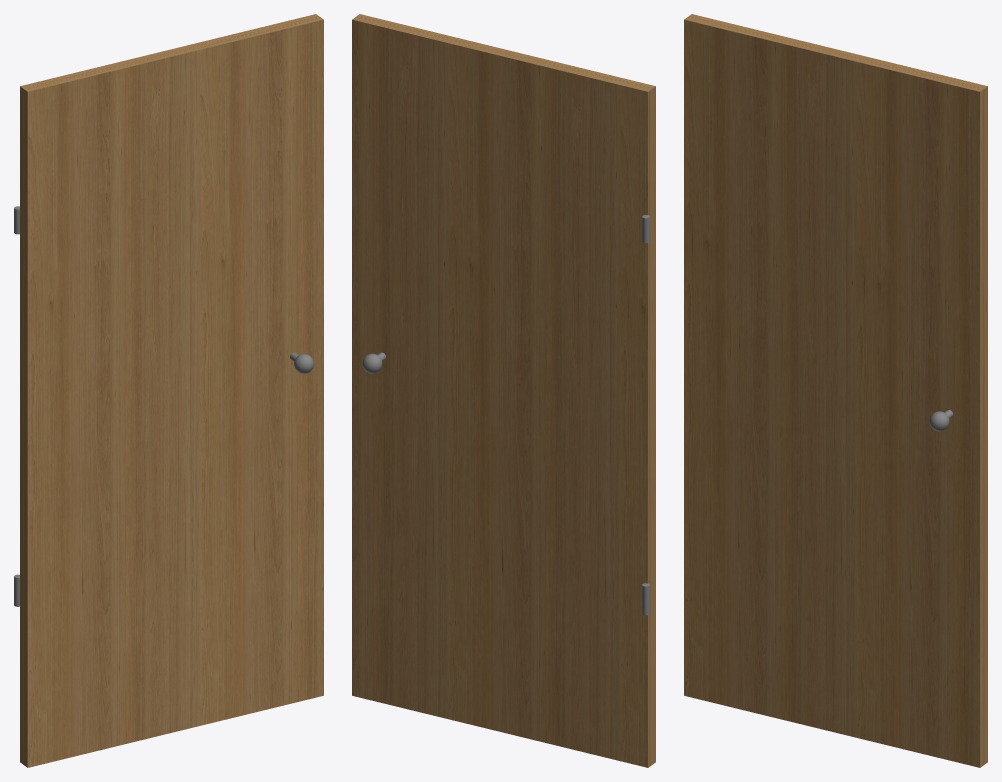
File: door6.dae
3 views of the same model, side by side, from view 1: azimuth 30°, elevation 25°; view 2: azimuth 150°, elevation 25°; view 3: azimuth 330°, elevation 25° (orthographic).
Visible parts, largest first — view 1: Куб; view 2: Куб; view 3: Куб.
Part boxes in pixels (x1,y1,x2,y2): Куб: (14,14,323,767); Куб: (352,14,655,767); Куб: (684,14,987,767).
Size of the model in its own units: 1.78 by 0.3929 by 3.84.
2 materials, 1 textured.
